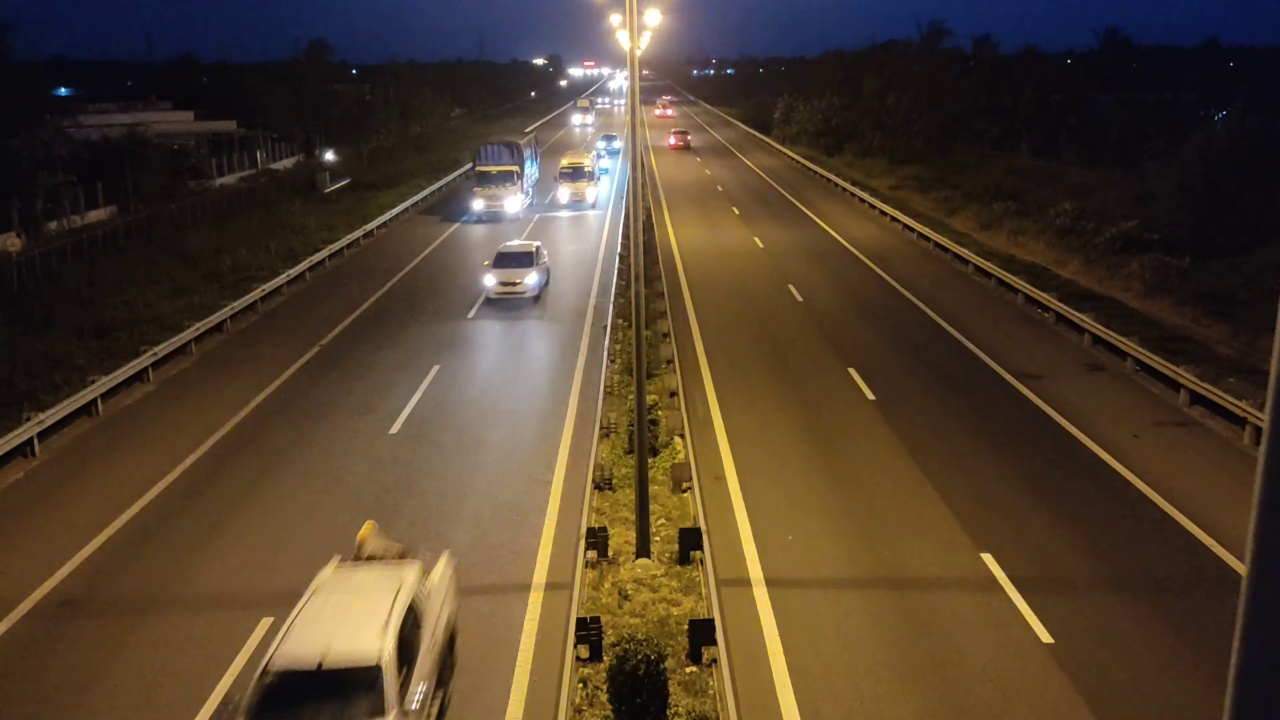car: (482, 238, 551, 303), (665, 127, 692, 149)
truck: (240, 519, 461, 719), (470, 133, 541, 221)
